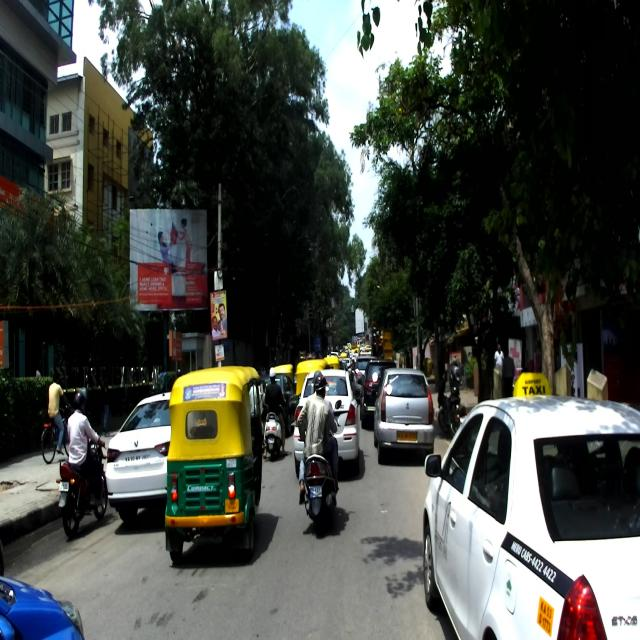Car_Maruti-Suzuki: (292, 368, 361, 481)
Car_Skoda: (104, 391, 171, 525)
Car_TATA: (371, 368, 435, 464)
Car_Toyota: (421, 370, 640, 640)
autorickshaw: (164, 364, 264, 564)
motorcycle_Hero: (56, 426, 107, 540)
scooter: (298, 398, 342, 537), (262, 393, 290, 462)
